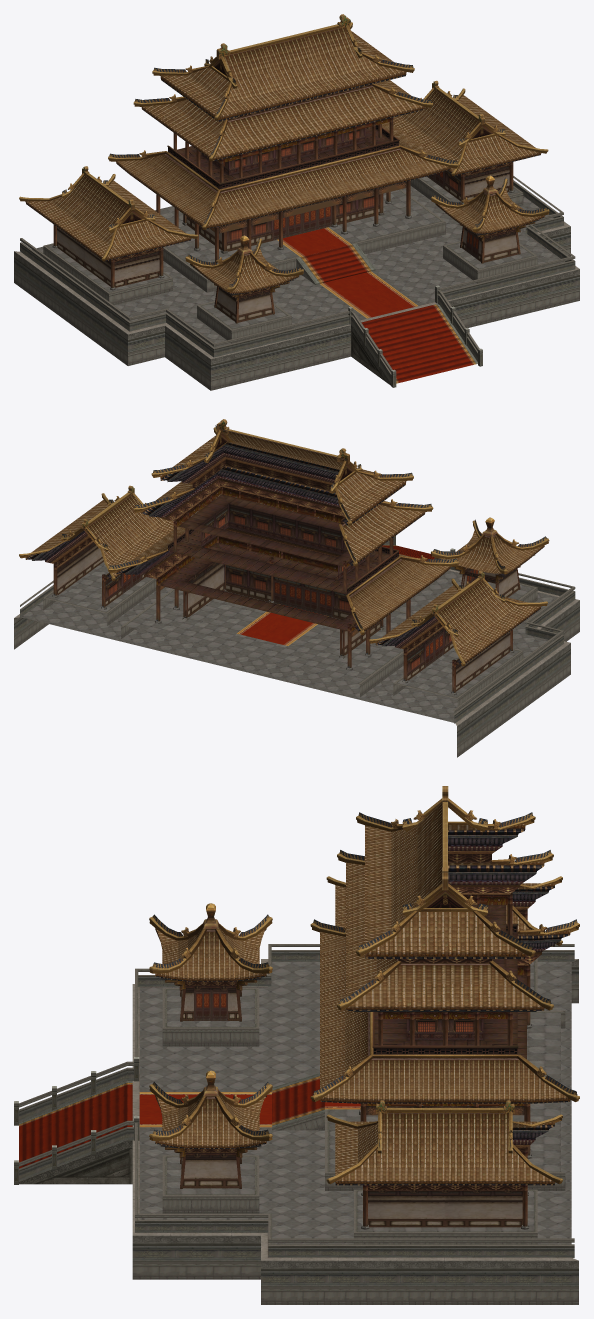
The model's file is zc_long14.FBX.
3 renders of one model, top to bottom at view 1: azimuth 30°, elevation 25°; view 2: azimuth 150°, elevation 25°; view 3: azimuth 270°, elevation 25°, orthographic. The views are drawn at different scales.
Parts seen in each view (by area): view 1: s7_3d_jz_guanfu_01, s7_3d_jz_guanfu_05, ee1, S7_3d_qiangbao_ditan01, S7_3d_qiangbao_ditan002; view 2: s7_3d_jz_guanfu_01, s7_3d_jz_guanfu_05, S7_3d_qiangbao_ditan002; view 3: s7_3d_jz_guanfu_01, s7_3d_jz_guanfu_05, ee1, S7_3d_qiangbao_ditan01.
Boxes of the visible parts, left/top/right/bottom form: s7_3d_jz_guanfu_01: left=14, top=14, right=579, bottom=390; s7_3d_jz_guanfu_05: left=32, top=176, right=564, bottom=347; ee1: left=361, top=304, right=477, bottom=383; S7_3d_qiangbao_ditan01: left=320, top=271, right=417, bottom=318; S7_3d_qiangbao_ditan002: left=277, top=227, right=351, bottom=256; s7_3d_jz_guanfu_01: left=14, top=419, right=579, bottom=757; s7_3d_jz_guanfu_05: left=21, top=553, right=562, bottom=722; S7_3d_qiangbao_ditan002: left=237, top=604, right=328, bottom=645; s7_3d_jz_guanfu_01: left=14, top=786, right=579, bottom=1304; s7_3d_jz_guanfu_05: left=140, top=961, right=571, bottom=1244; ee1: left=19, top=1081, right=132, bottom=1168; S7_3d_qiangbao_ditan01: left=139, top=1092, right=271, bottom=1127.
Bounding box in the file's own units: 98.88 × 49.59 × 77.81.
